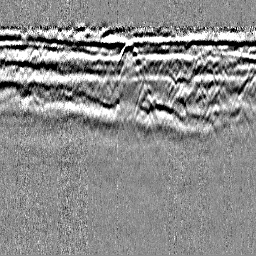cavity: (116, 38, 140, 67)
